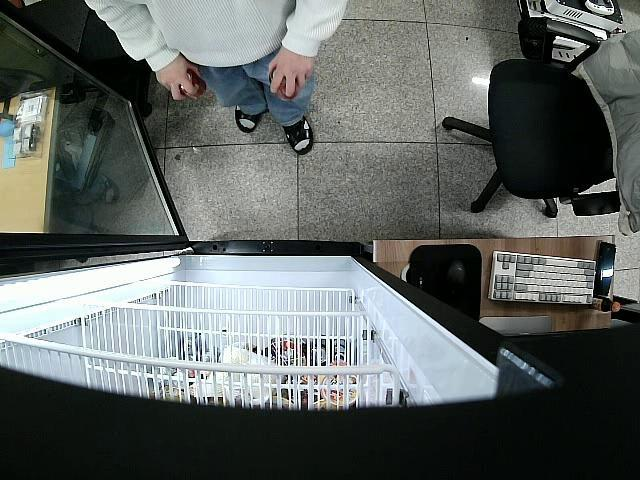11_cocaColaZero: (269, 64, 300, 102), (176, 68, 207, 98)
